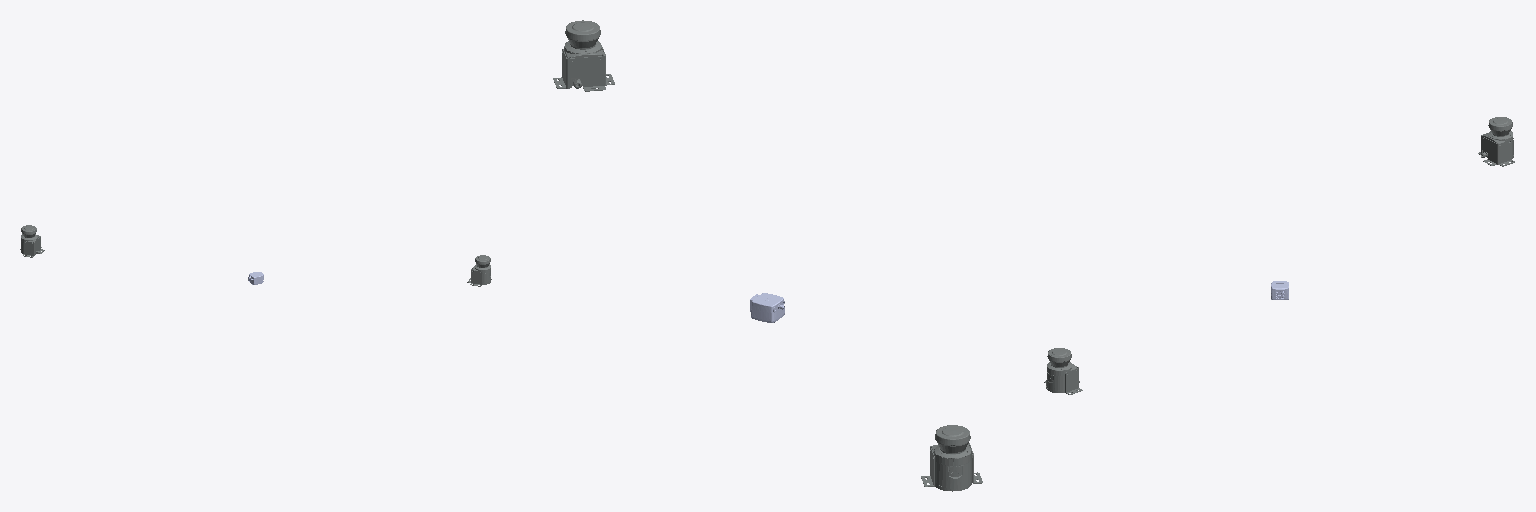
URDF robot description (sensors):
<?xml version="1.0" encoding="utf-8"?>
<!-- This URDF was automatically created by SolidWorks to URDF Exporter! Originally created by Stephen Brawner ([email redacted]) 
     Commit Version: 1.6.0-4-g7f85cfe  Build Version: 1.6.7995.38578
     For more information, please see http://wiki.ros.org/sw_urdf_exporter -->
<robot
  name="sensors">
  <link
    name="base_link">
    <inertial>
      <origin
        xyz="-0.0276227484725201 -1.27979022125324E-06 0.216777618595537"
        rpy="0 0 0" />
      <mass
        value="356.107391573212" />
      <inertia
        ixx="66.5606357128645"
        ixy="0.00332565654383913"
        ixz="-3.26439235033433E-05"
        iyy="116.49547476404"
        iyz="2.33444187773766E-05"
        izz="182.646575495748" />
    </inertial>
    <visual>
      <origin
        xyz="0 0 0"
        rpy="0 0 0" />
      <geometry>
        <mesh
          filename="package://sensors/meshes/base_link.STL" />
      </geometry>
      <material
        name="">
        <color
          rgba="0.776470588235294 0.756862745098039 0.737254901960784 1" />
      </material>
    </visual>
    <collision>
      <origin
        xyz="0 0 0"
        rpy="0 0 0" />
      <geometry>
        <mesh
          filename="package://sensors/meshes/base_link.STL" />
      </geometry>
    </collision>
  </link>
  <link
    name="front_lidar_link">
    <inertial>
      <origin
        xyz="-0.0035462 0.0042043 -0.073173"
        rpy="0 0 0" />
      <mass
        value="9.4988" />
      <inertia
        ixx="0.017958"
        ixy="-0.00028001"
        ixz="7.641E-05"
        iyy="0.017988"
        iyz="-0.00013292"
        izz="0.013238" />
    </inertial>
    <visual>
      <origin
        xyz="0 0 0"
        rpy="0 0 0" />
      <geometry>
        <mesh
          filename="package://sensors/meshes/front_lidar_link.STL" />
      </geometry>
      <material
        name="">
        <color
          rgba="0.52941 0.54902 0.54902 1" />
      </material>
    </visual>
    <collision>
      <origin
        xyz="0 0 0"
        rpy="0 0 0" />
      <geometry>
        <mesh
          filename="package://sensors/meshes/front_lidar_link.STL" />
      </geometry>
    </collision>
  </link>
  <joint
    name="front_lidar_joint"
    type="fixed">
    <origin
      xyz="1.0527 -0.84887 0.24279"
      rpy="0 0 0" />
    <parent
      link="base_link" />
    <child
      link="front_lidar_link" />
    <axis
      xyz="0 0 0" />
  </joint>
  <link
    name="back_lidar_link">
    <inertial>
      <origin
        xyz="-0.0034717 0.004266 -0.073173"
        rpy="0 0 0" />
      <mass
        value="9.4988" />
      <inertia
        ixx="0.017948"
        ixy="-0.00027931"
        ixz="7.4062E-05"
        iyy="0.017998"
        iyz="-0.00013424"
        izz="0.013238" />
    </inertial>
    <visual>
      <origin
        xyz="0 0 0"
        rpy="0 0 0" />
      <geometry>
        <mesh
          filename="package://sensors/meshes/back_lidar_link.STL" />
      </geometry>
      <material
        name="">
        <color
          rgba="0.52941 0.54902 0.54902 1" />
      </material>
    </visual>
    <collision>
      <origin
        xyz="0 0 0"
        rpy="0 0 0" />
      <geometry>
        <mesh
          filename="package://sensors/meshes/back_lidar_link.STL" />
      </geometry>
    </collision>
  </link>
  <joint
    name="back_lidar_joint"
    type="fixed">
    <origin
      xyz="-1.0527 0.84887 0.24279"
      rpy="0 0 -3.1416" />
    <parent
      link="base_link" />
    <child
      link="back_lidar_link" />
    <axis
      xyz="0 0 0" />
  </joint>
  <link
    name="code_camera_link">
    <inertial>
      <origin
        xyz="-3.5665E-07 -0.0013804 -0.024824"
        rpy="0 0 0" />
      <mass
        value="0.24177" />
      <inertia
        ixx="0.00015322"
        ixy="3.4832E-09"
        ixz="-1.2072E-09"
        iyy="0.00013904"
        iyz="-7.957E-07"
        izz="0.000194" />
    </inertial>
    <visual>
      <origin
        xyz="0 0 0"
        rpy="0 0 0" />
      <geometry>
        <mesh
          filename="package://sensors/meshes/code_camera_link.STL" />
      </geometry>
      <material
        name="">
        <color
          rgba="0.79216 0.81961 0.93333 1" />
      </material>
    </visual>
    <collision>
      <origin
        xyz="0 0 0"
        rpy="0 0 0" />
      <geometry>
        <mesh
          filename="package://sensors/meshes/code_camera_link.STL" />
      </geometry>
    </collision>
  </link>
  <joint
    name="code_camera_joint"
    type="fixed">
    <origin
      xyz="0 0 0"
      rpy="3.1416 0 -1.5708" />
    <parent
      link="base_link" />
    <child
      link="code_camera_link" />
    <axis
      xyz="0 0 0" />
  </joint>
</robot>

--- Facts derived from the render (not from the file) ---
Views: 3 orthographic renders of the robot side by side, from view 1: azimuth 30°, elevation 25°; view 2: azimuth 150°, elevation 25°; view 3: azimuth 270°, elevation 25°.
Robot: sensors — 4 links, 3 joints (3 fixed); root link base_link; default pose: every joint at zero.
Links seen in each view (by area): view 1: back_lidar_link, front_lidar_link; view 2: front_lidar_link, back_lidar_link, code_camera_link; view 3: back_lidar_link, front_lidar_link.
Boxes of the visible links, box(x1,y1,x2,y2) form: back_lidar_link: box(20, 225, 44, 257); front_lidar_link: box(467, 255, 491, 286); front_lidar_link: box(553, 20, 614, 91); back_lidar_link: box(921, 425, 982, 491); code_camera_link: box(750, 293, 784, 322); back_lidar_link: box(1478, 117, 1514, 166); front_lidar_link: box(1044, 348, 1082, 394).
Size in the robot's own frame: 2.24 by 1.81 by 0.2554 metres.
3 mesh visuals loaded from 4 distinct referenced files (3 binary STL); not drawn: 1 (reference not matched to a file when rendering).
